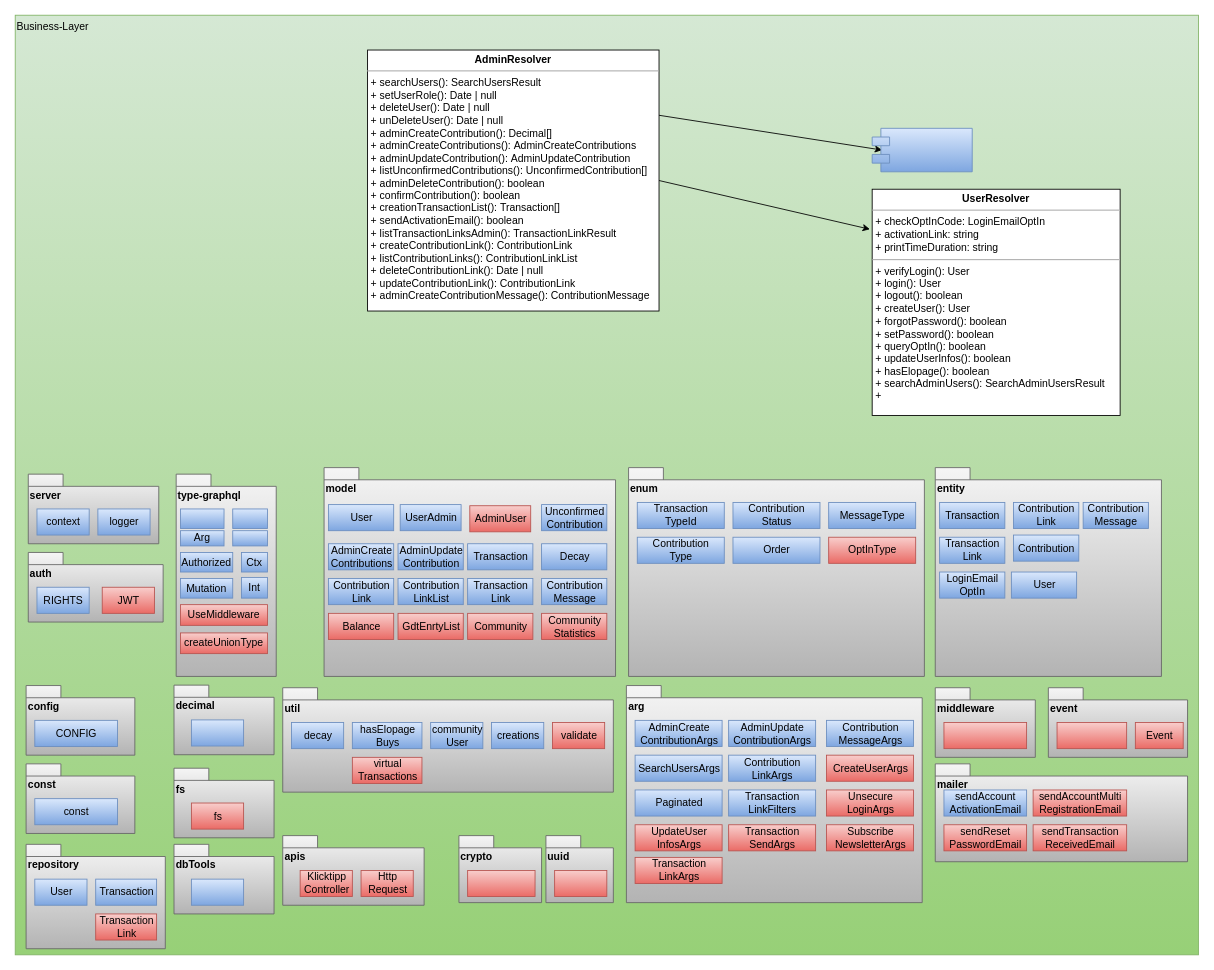
Image size: 1214x970. Some labels were removed from this diagram. Here are the shapes that lost their labels. From the top down, the centre of each, then its label:
pixel 921 149: TransactionLink Resolver
pixel 202 518: Resolver
pixel 250 518: Query
pixel 250 538: Args
pixel 217 732: js-light
pixel 985 735: klicktipp Middleware
pixel 1091 735: EventProtocol Emitter
pixel 217 891: typeorm
pixel 501 883: randomBytes
pixel 580 883: v4
